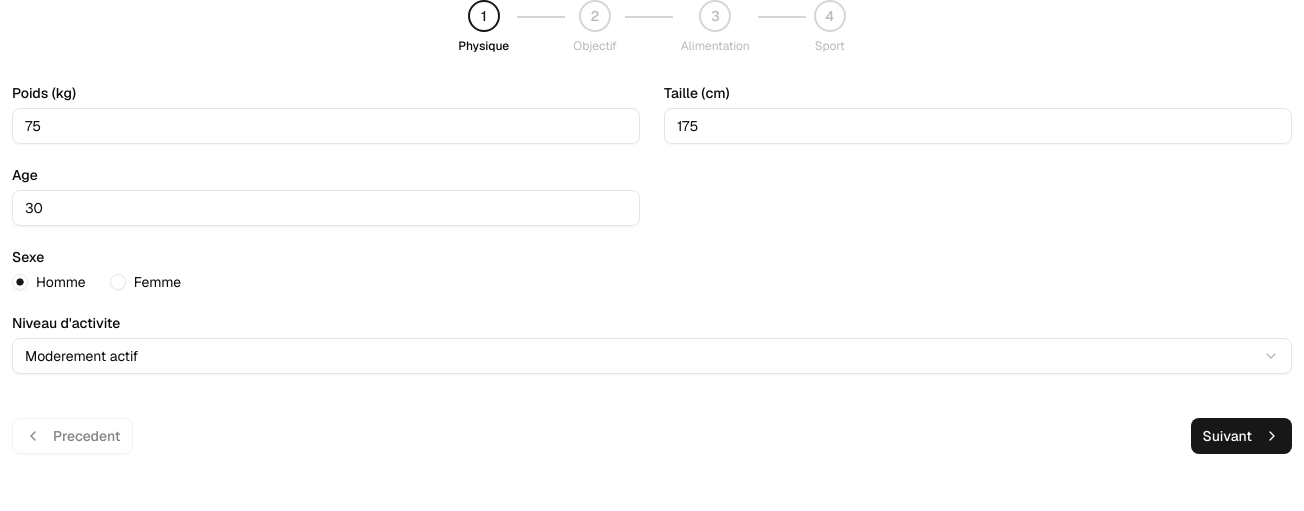
Test case: OnboardingWizard › shows 'Terminer' button on the last step
The width and height of the screenshot is (1304, 511).
Step 1. Click the button "Suivant" → (1241, 436), box [1190,418,1292,454]
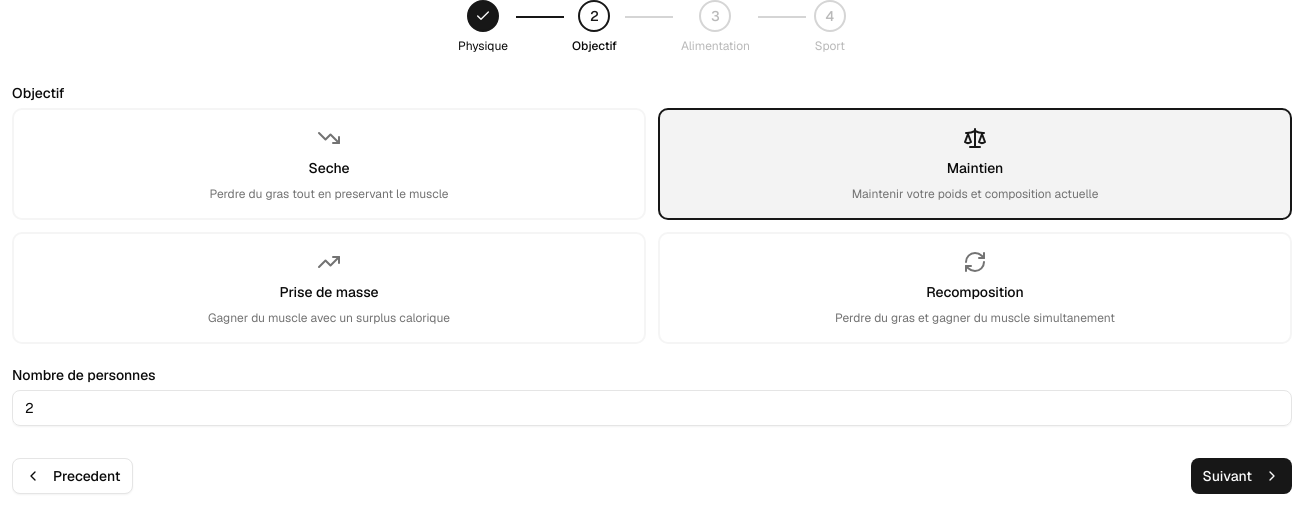
Step 2. Click the button "Suivant" → (1241, 476), box [1190,458,1292,494]
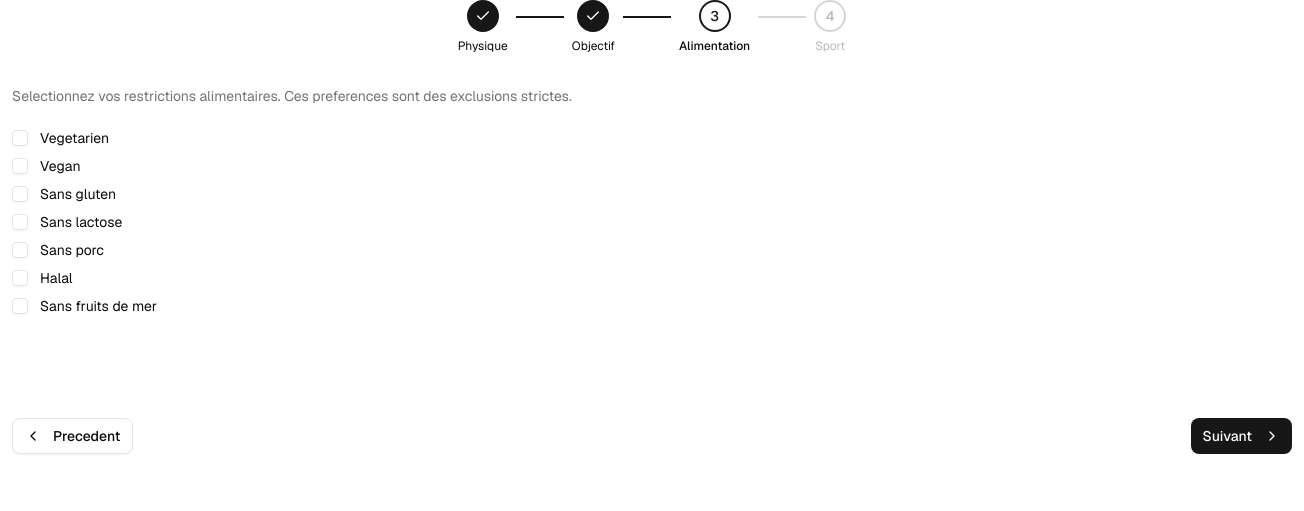
Step 3. Click the button "Suivant" → (1241, 436), box [1190,418,1292,454]
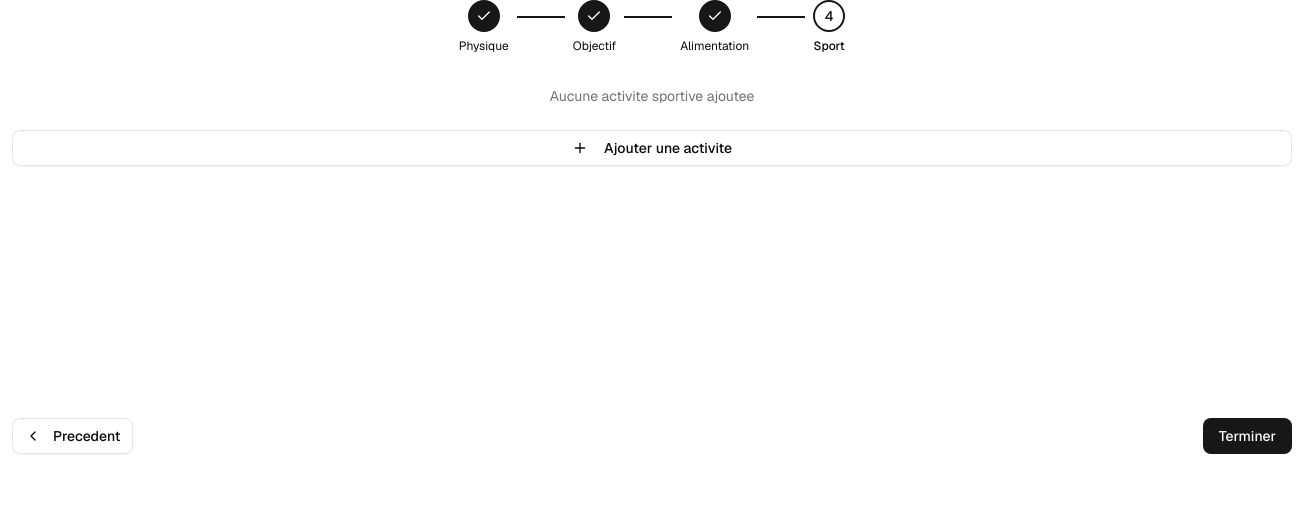
Expected: the button "Terminer" is shown, [1203,418,1292,454]
Expected: the button "Suivant" is gone
